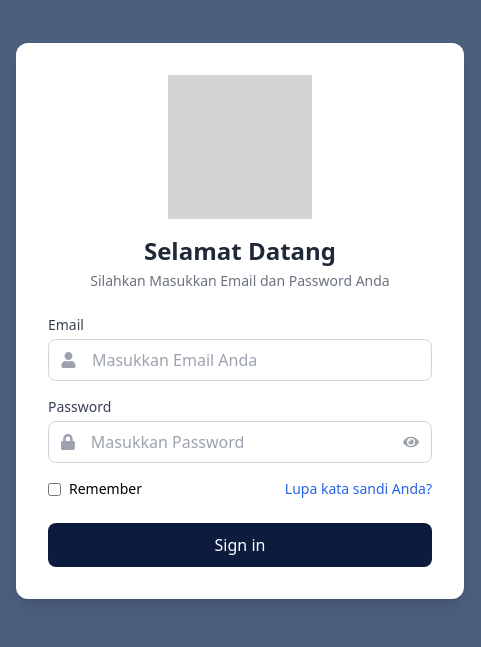
Test: Login Component › shows error on login failure
Type "test@example.com" into the field with placeholder "Masukkan Email Anda" at (251, 360), box [84,340,419,380]
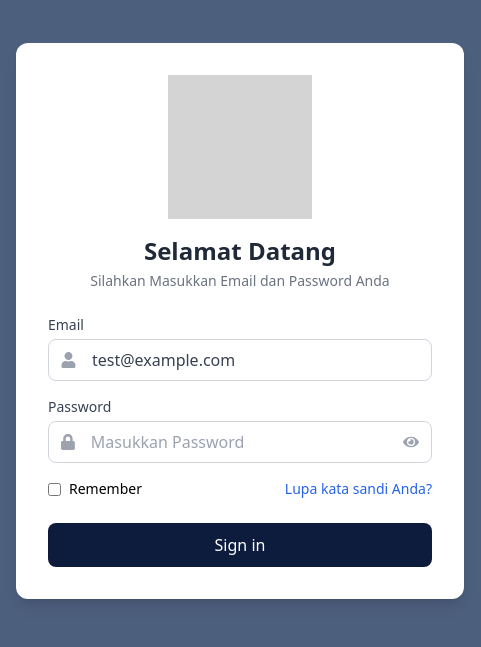
Type "wrongpassword" into the password field with placeholder "Masukkan Password" at (239, 442), box [83,422,395,462]
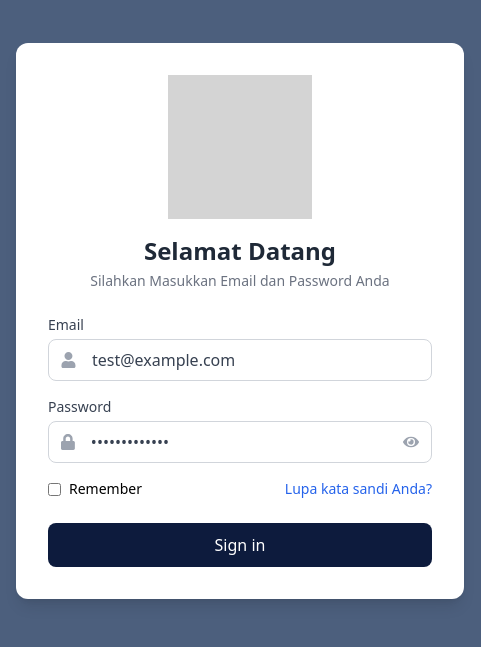
Click the button "Sign in" at (240, 545), box [48,523,432,567]
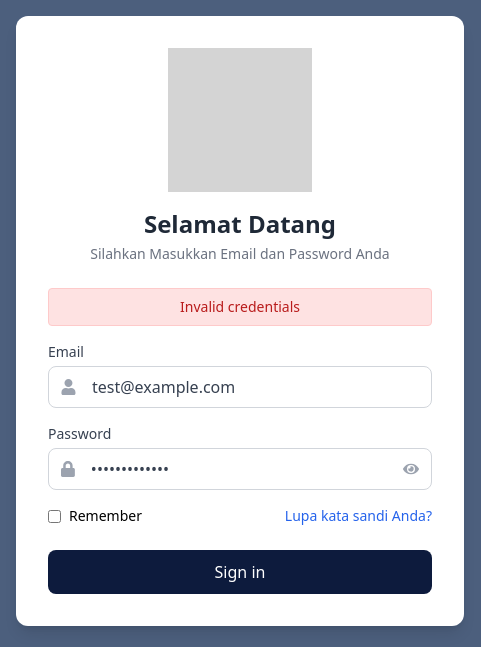
Expected: the text "Invalid credentials" is shown, [48,288,432,326]
